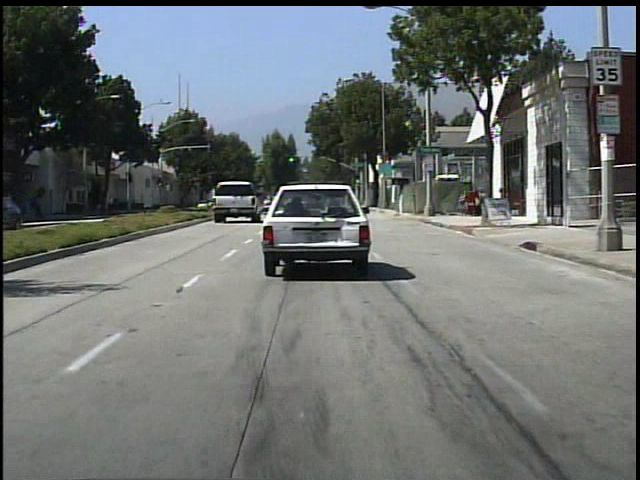person: (32, 195, 51, 226)
